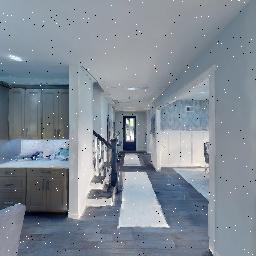door-frame: (148, 59, 225, 256)
stairs: (84, 123, 126, 210)
